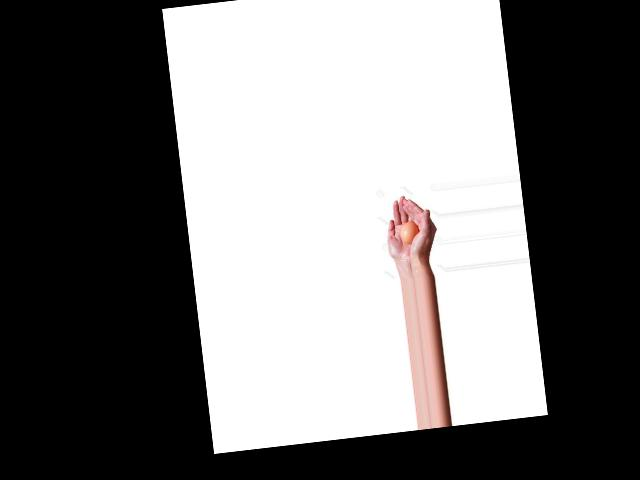egg: (400, 220, 420, 243)
